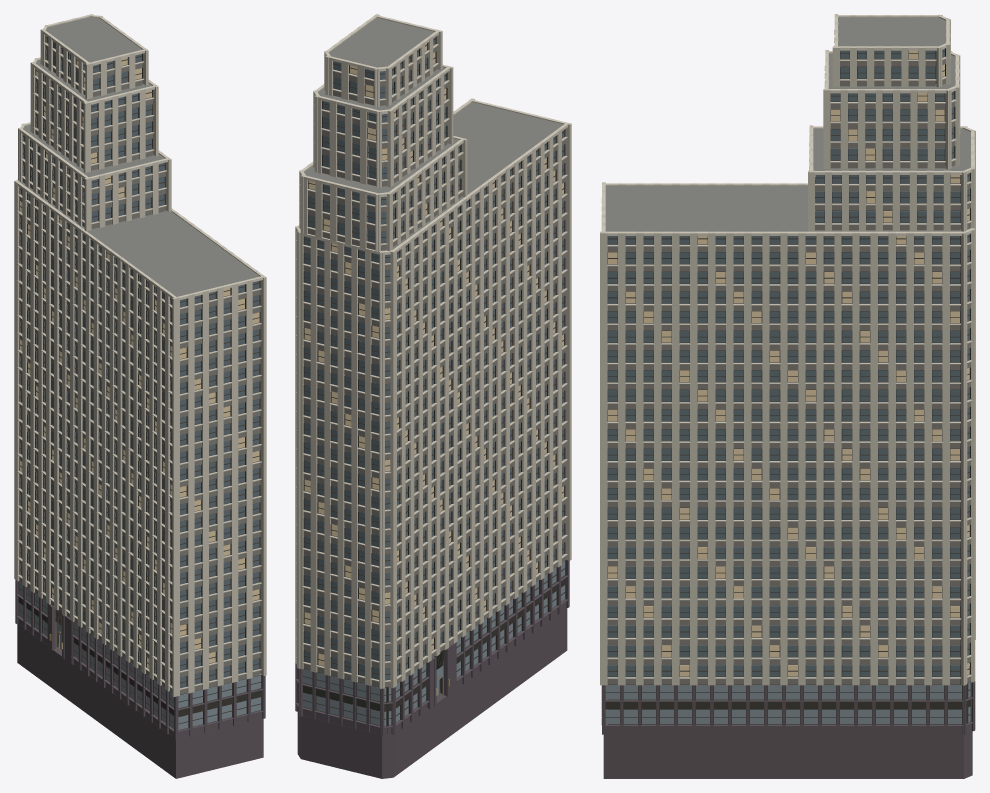
File: michigan_333.glb
The picture shows the model from 3 angles, left to right: view 1: azimuth 30°, elevation 25°; view 2: azimuth 150°, elevation 25°; view 3: azimuth 270°, elevation 25°; orthographic projection. The views are drawn at different scales.
Parts seen in each view (by area): view 1: Buff limestone vertical piers, Separate recessed office panes, Dark terracotta vertical spandrels, Dark decorative entrance grille, Polished dark purple granite retail base, Grey roof terrace, Clear retail and vestibule glazing, Night occupied office panes, Pale limestone Art Deco crown, Opaque inset interior backing; view 2: Buff limestone vertical piers, Separate recessed office panes, Dark terracotta vertical spandrels, Dark decorative entrance grille, Polished dark purple granite retail base, Grey roof terrace, Clear retail and vestibule glazing, Night occupied office panes, Pale limestone Art Deco crown, Opaque inset interior backing; view 3: Buff limestone vertical piers, Separate recessed office panes, Dark terracotta vertical spandrels, Dark decorative entrance grille, Polished dark purple granite retail base, Grey roof terrace, Opaque inset interior backing, Clear retail and vestibule glazing, Night occupied office panes, Pale limestone Art Deco crown.
Boxes of the visible parts, x1=… form: Buff limestone vertical piers: x1=14, y1=14, x2=266, y2=696; Separate recessed office panes: x1=20, y1=36, x2=259, y2=687; Dark terracotta vertical spandrels: x1=19, y1=42, x2=260, y2=694; Dark decorative entrance grille: x1=18, y1=35, x2=261, y2=727; Polished dark purple granite retail base: x1=15, y1=580, x2=265, y2=778; Grey roof terrace: x1=20, y1=17, x2=259, y2=296; Clear retail and vestibule glazing: x1=19, y1=581, x2=261, y2=730; Night occupied office panes: x1=20, y1=57, x2=259, y2=668; Pale limestone Art Deco crown: x1=17, y1=15, x2=263, y2=648; Opaque inset interior backing: x1=20, y1=48, x2=257, y2=730; Buff limestone vertical piers: x1=295, y1=14, x2=571, y2=688; Separate recessed office panes: x1=304, y1=37, x2=563, y2=679; Dark terracotta vertical spandrels: x1=303, y1=44, x2=565, y2=687; Dark decorative entrance grille: x1=298, y1=36, x2=566, y2=723; Polished dark purple granite retail base: x1=295, y1=560, x2=569, y2=778; Grey roof terrace: x1=304, y1=18, x2=563, y2=250; Clear retail and vestibule glazing: x1=303, y1=561, x2=565, y2=725; Night occupied office panes: x1=304, y1=43, x2=563, y2=665; Pale limestone Art Deco crown: x1=296, y1=15, x2=568, y2=695; Opaque inset interior backing: x1=303, y1=51, x2=555, y2=733; Buff limestone vertical piers: x1=600, y1=14, x2=975, y2=685; Separate recessed office panes: x1=608, y1=48, x2=969, y2=676; Dark terracotta vertical spandrels: x1=607, y1=56, x2=970, y2=684; Dark decorative entrance grille: x1=605, y1=48, x2=970, y2=724; Polished dark purple granite retail base: x1=601, y1=681, x2=975, y2=778; Grey roof terrace: x1=605, y1=17, x2=970, y2=231; Opaque inset interior backing: x1=608, y1=51, x2=968, y2=724; Clear retail and vestibule glazing: x1=605, y1=643, x2=970, y2=724; Night occupied office panes: x1=608, y1=50, x2=969, y2=676; Pale limestone Art Deco crown: x1=602, y1=15, x2=974, y2=235.
Bounding box in the file's own units: 19.76 × 129 × 60.62.
